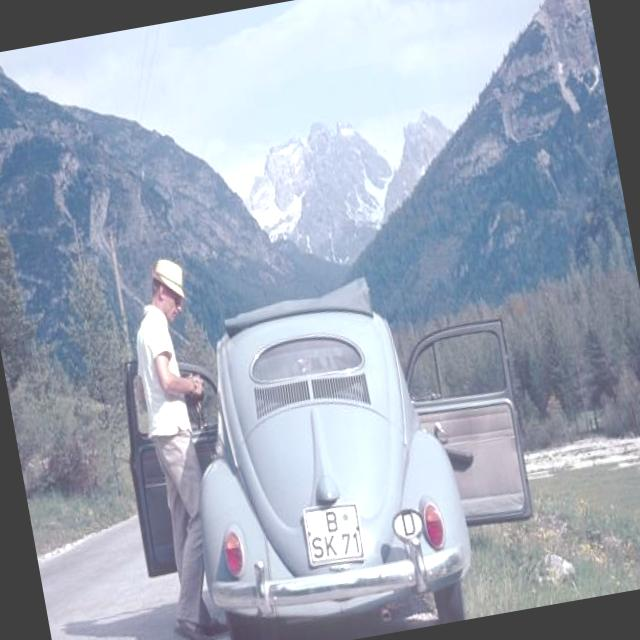car: (150, 267, 490, 640)
